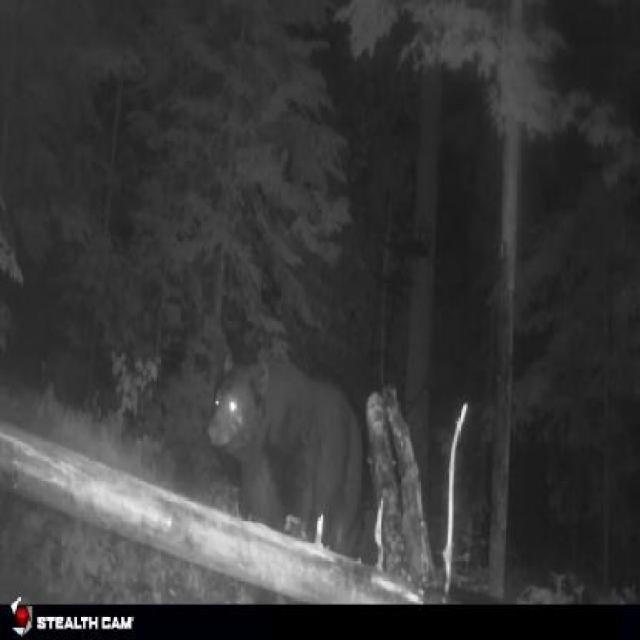Bear: (207, 326, 376, 549)
